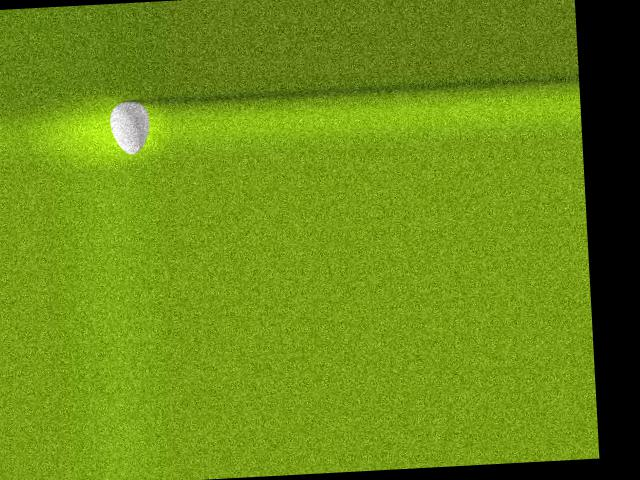egg: (109, 100, 151, 155)
